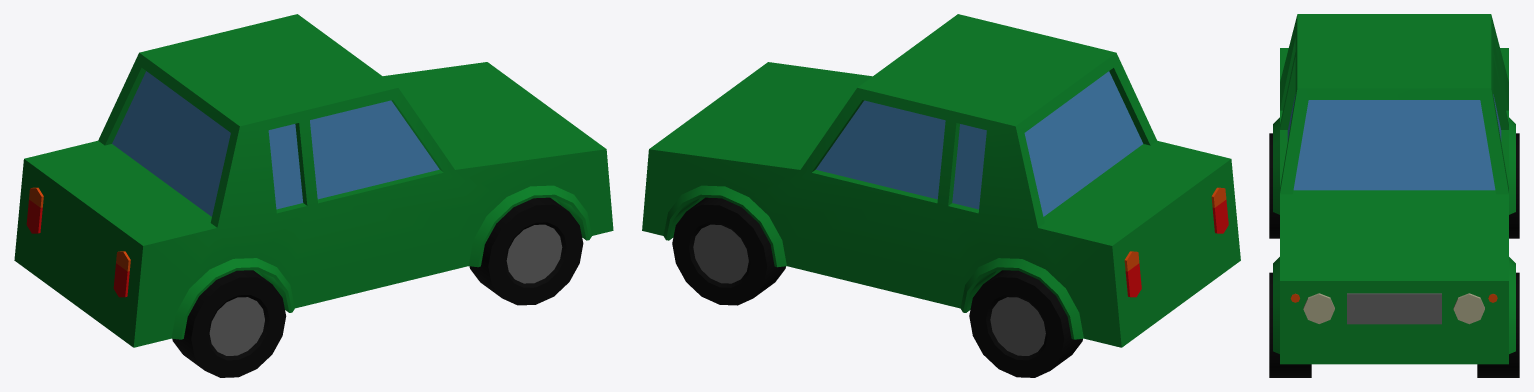
The model's file is car-normal-green.obj.
The picture shows the model from 3 angles, left to right: view 1: azimuth 30°, elevation 25°; view 2: azimuth 150°, elevation 25°; view 3: azimuth 270°, elevation 25°; orthographic projection. The views are drawn at different scales.
Visible parts, largest first — view 1: car-normal-green_Cube.599_carmaterial_green, car-normal-green_Cube.599_windows, car-normal-green_Cube.599_tires, car-normal-green_Cube.599_metal, car-normal-green_Cube.599_lights.red; view 2: car-normal-green_Cube.599_carmaterial_green, car-normal-green_Cube.599_windows, car-normal-green_Cube.599_tires, car-normal-green_Cube.599_metal, car-normal-green_Cube.599_lights.red; view 3: car-normal-green_Cube.599_carmaterial_green, car-normal-green_Cube.599_windows, car-normal-green_Cube.599_tires, car-normal-green_Cube.599_metal, car-normal-green_Cube.599_lights.
Boxes of the visible parts, x1=… form: car-normal-green_Cube.599_carmaterial_green: x1=14, y1=14, x2=613, y2=347; car-normal-green_Cube.599_windows: x1=112, y1=71, x2=439, y2=216; car-normal-green_Cube.599_tires: x1=172, y1=197, x2=583, y2=377; car-normal-green_Cube.599_metal: x1=209, y1=224, x2=562, y2=355; car-normal-green_Cube.599_lights.red: x1=26, y1=199, x2=129, y2=297; car-normal-green_Cube.599_carmaterial_green: x1=642, y1=14, x2=1240, y2=347; car-normal-green_Cube.599_windows: x1=816, y1=71, x2=1143, y2=216; car-normal-green_Cube.599_tires: x1=672, y1=197, x2=1082, y2=377; car-normal-green_Cube.599_metal: x1=693, y1=224, x2=1045, y2=355; car-normal-green_Cube.599_lights.red: x1=1125, y1=200, x2=1228, y2=297; car-normal-green_Cube.599_carmaterial_green: x1=1273, y1=14, x2=1515, y2=364; car-normal-green_Cube.599_windows: x1=1287, y1=94, x2=1501, y2=190; car-normal-green_Cube.599_tires: x1=1269, y1=133, x2=1519, y2=377; car-normal-green_Cube.599_metal: x1=1347, y1=293, x2=1441, y2=324; car-normal-green_Cube.599_lights: x1=1303, y1=293, x2=1484, y2=324.
Size of the model in its own units: 18.17 by 8.55 by 8.54.
